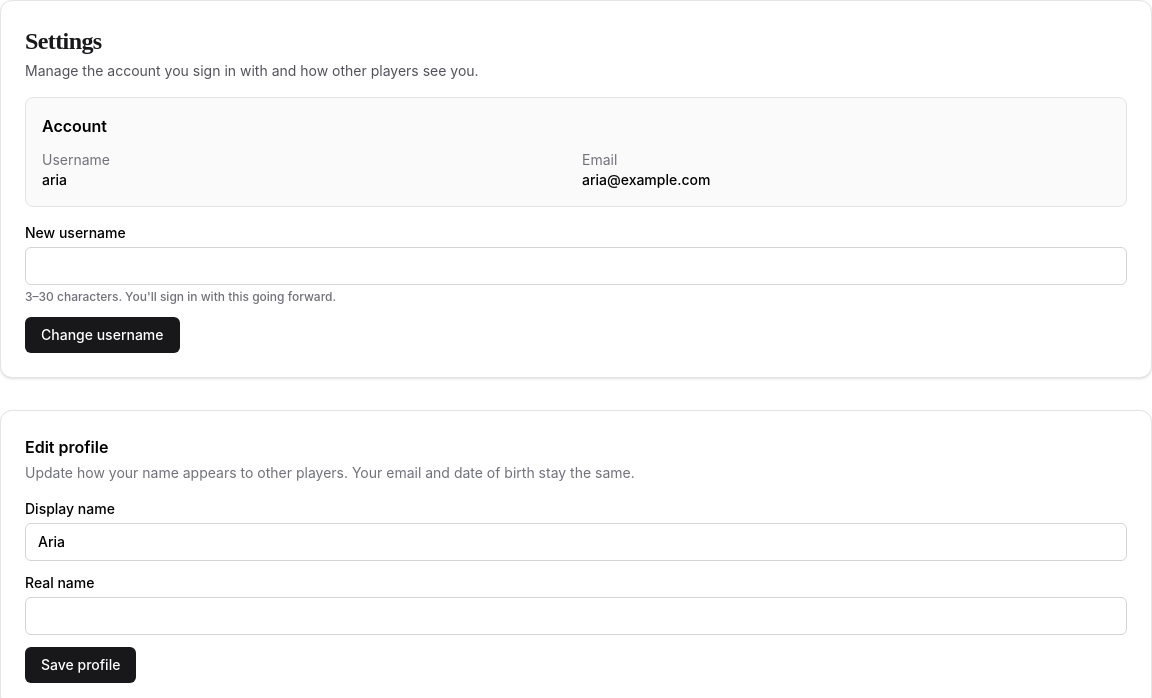
SettingsPage › updates the username and refreshes the session
Type "drake" into the field labelled "New username". click: point(576, 266)
box: left=25, top=247, right=1127, bottom=285
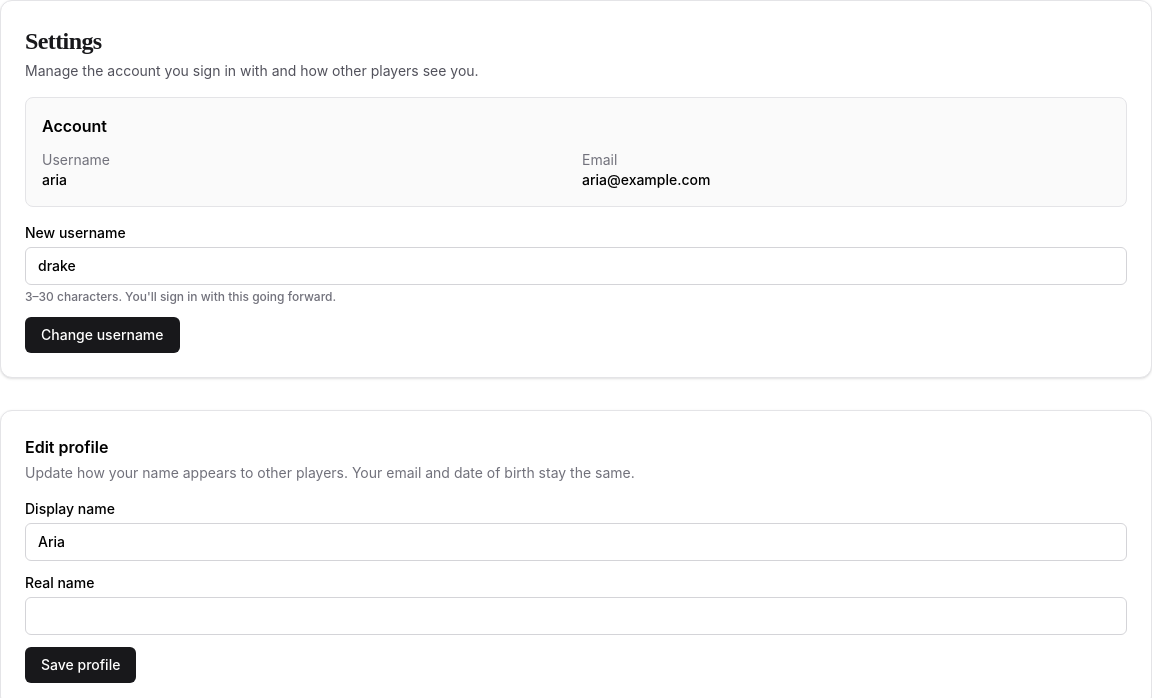
Click the button "Change username". click: point(102, 335)
box: left=25, top=317, right=180, bottom=353
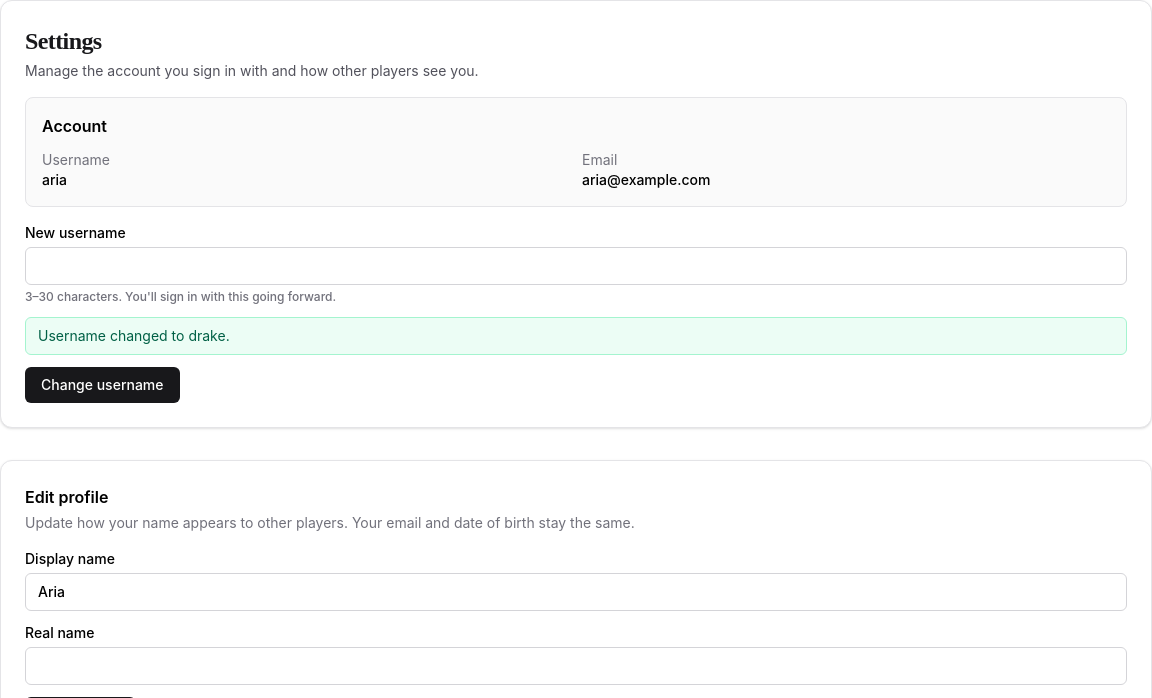
Now the text "Username changed to drake." is shown, box left=25, top=317, right=1127, bottom=355
